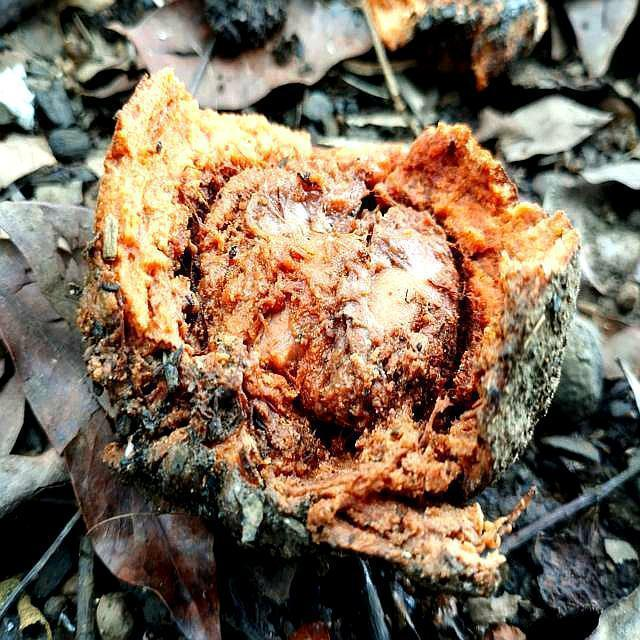Biodegradable: (79, 59, 561, 535)
